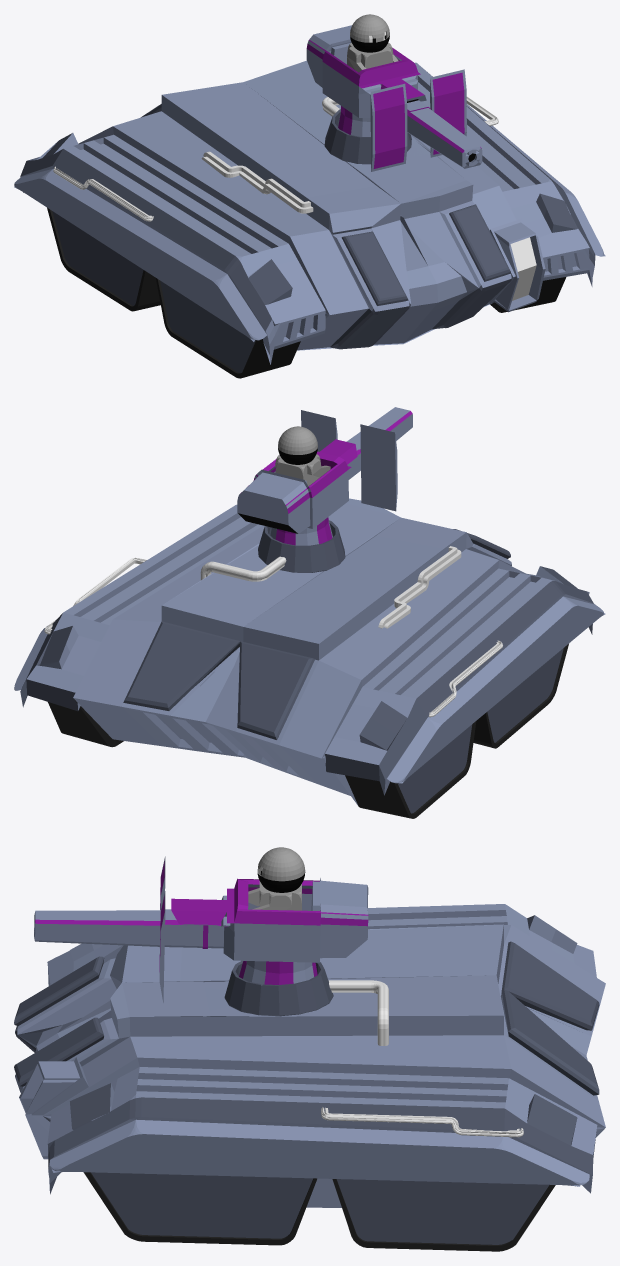
Rendered from NormalTank.fbx.
3 views of the same model, one above another, from view 1: azimuth 30°, elevation 25°; view 2: azimuth 150°, elevation 25°; view 3: azimuth 270°, elevation 25° (orthographic). The views are drawn at different scales.
Visible parts, largest first — view 1: Tank, TurretGun, Cube.001; view 2: Tank, TurretGun, Cube.001; view 3: Tank, TurretGun, Cube.001.
Part boxes in pixels (x1,y1,x2,y2): Tank: (14, 60, 605, 378); TurretGun: (306, 25, 482, 171); Cube.001: (347, 14, 398, 72); Tank: (14, 498, 605, 818); TurretGun: (237, 407, 412, 545); Cube.001: (275, 426, 330, 486); Tank: (14, 904, 605, 1251); TurretGun: (34, 856, 368, 1002); Cube.001: (248, 847, 305, 910).
Size of the model in its own units: 1256 by 820 by 1365.
